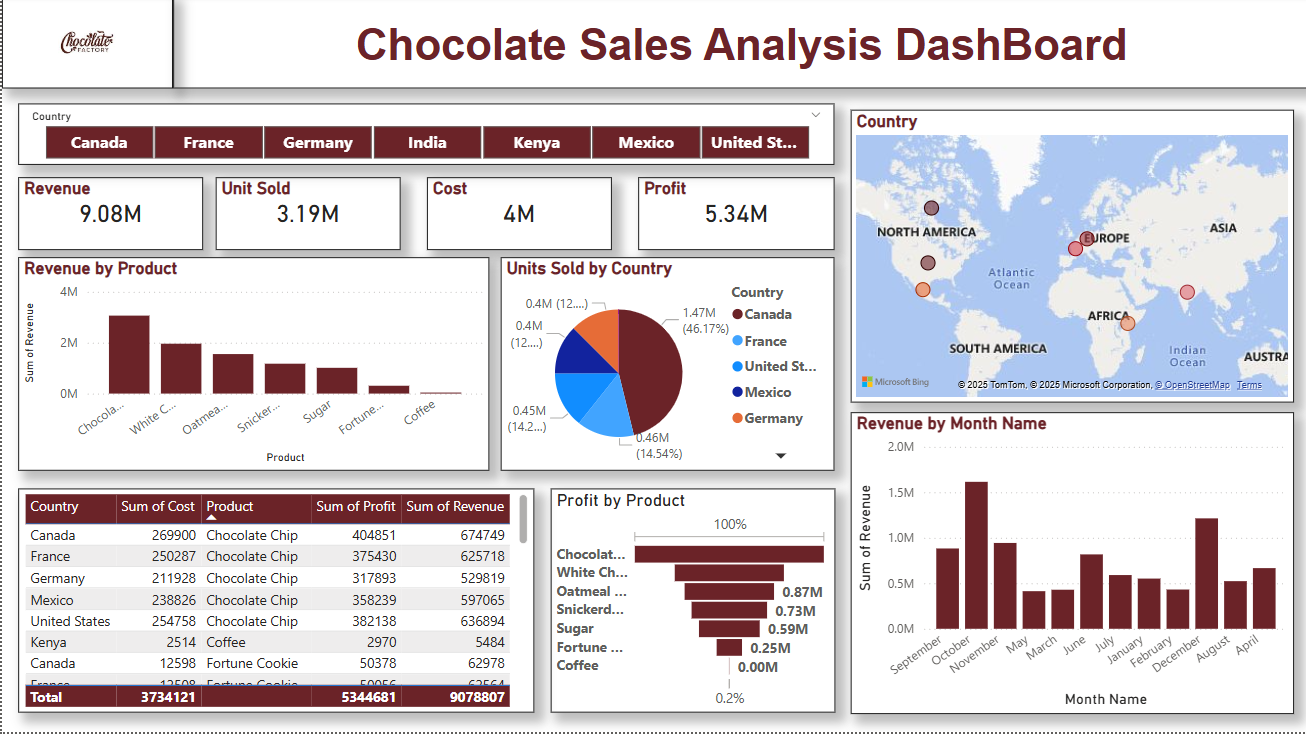

The page's visual inventory and layout, read from the dashboard file:
{"tool":"powerbi","page":{"name":"dashbaord","canvas":[1280,720],"ordinal":0},"visuals":[{"type":"textbox","box":[167.4,0,1112.9,90.6],"z":0},{"type":"image","box":[0,0,167.4,90.6],"z":1000},{"type":"card","title":"Revenue","fields":{"Values":["Sum(Sheet1.Revenue)"]},"box":[16.5,177,181.1,71.4],"z":2000},{"type":"card","title":"Unit Sold","fields":{"Values":["Sum(Sheet1.Units Sold)"]},"box":[208.6,177,181.1,71.4],"z":3000},{"type":"card","title":"Cost","fields":{"Values":["Sum(Sheet1.Cost)"]},"box":[415.8,177,181.1,71.4],"z":4000},{"type":"card","title":"Profit","fields":{"Values":["Sum(Sheet1.Profit)"]},"box":[623,177,192.1,71.4],"z":5000},{"type":"columnChart","title":" Revenue by Product","fields":{"Y":["Sum(Sheet1.Revenue)"],"Category":["Sheet1.Product"]},"box":[16.5,255.2,461.1,208.6],"z":6000},{"type":"pieChart","title":" Units Sold by Country","fields":{"Y":["Sum(Sheet1.Units Sold)"],"Category":["Sheet1.Country"]},"box":[488.5,255.2,326.6,208.6],"z":7000},{"type":"map","fields":{"Category":["Sheet1.Country"]},"box":[830.2,111.1,433.6,286.8],"z":8000},{"type":"funnel","title":"Profit by Product","fields":{"Category":["Sheet1.Product"],"Y":["Sum(Sheet1.Profit)"]},"box":[536.5,481.6,278.6,219.6],"z":9000},{"type":"tableEx","fields":{"Values":["Sheet1.Country","Sum(Sheet1.Cost)","Sheet1.Product","Sum(Sheet1.Profit)","Sum(Sheet1.Revenue)"]},"box":[16.5,481.6,505,219.6],"z":10000},{"type":"columnChart","title":"Revenue by Month Name","fields":{"Category":["Sheet1.Month Name"],"Y":["Sum(Sheet1.Revenue)"]},"box":[830.2,407.5,433.6,295],"z":11000},{"type":"slicer","fields":{"Values":["Sheet1.Country"]},"box":[16.5,105.7,798.6,60.4],"z":12000}]}

Visuals, with their boxes in screenshot pixels (x1, y1, x2, y2), scaled from the page's 1280x720 canvas onto the 1306x734 screenshot:
textbox: locate(171, 0, 1305, 92)
image: locate(0, 0, 171, 92)
"Revenue" card: locate(17, 180, 202, 253)
"Unit Sold" card: locate(213, 180, 398, 253)
"Cost" card: locate(424, 180, 609, 253)
"Profit" card: locate(636, 180, 832, 253)
" Revenue by Product" columnChart: locate(17, 260, 487, 473)
" Units Sold by Country" pieChart: locate(498, 260, 832, 473)
map - Sheet1.Country: locate(847, 113, 1289, 406)
"Profit by Product" funnel: locate(547, 491, 832, 715)
tableEx - Sheet1.Country x Sum(Sheet1.Cost): locate(17, 491, 532, 715)
"Revenue by Month Name" columnChart: locate(847, 415, 1289, 716)
slicer - Sheet1.Country: locate(17, 108, 832, 169)
